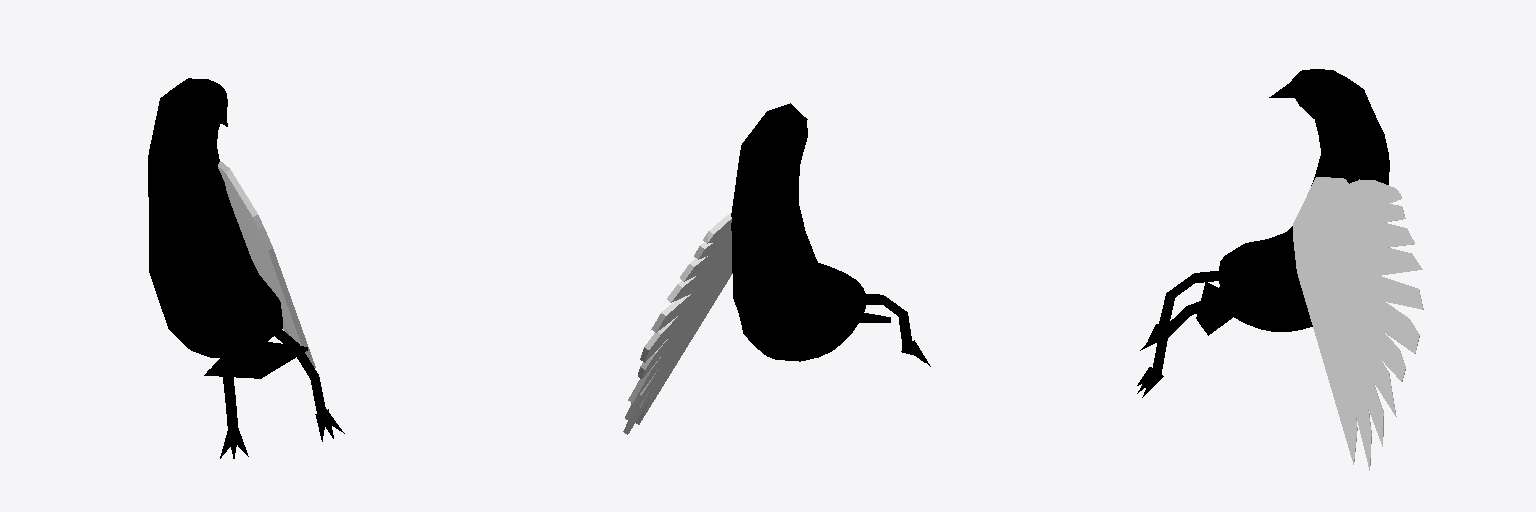
The model's file is model_dumbbell_crowbody.obj.
3 renders of one model, left to right at view 1: azimuth 30°, elevation 25°; view 2: azimuth 150°, elevation 25°; view 3: azimuth 270°, elevation 25°, orthographic.
Visible parts, largest first — view 1: group15 pasted__pSphere2, group15 pasted__pCube4, pasted__pCylinder1 group16, group16 pasted__pasted__pCylinder1 pasted__group16; view 2: group15 pasted__pSphere2, group15 pasted__pCube4, group16 pasted__pasted__pCylinder1 pasted__group16; view 3: group15 pasted__pCube4, group15 pasted__pSphere2, pasted__pCylinder1 group16, group16 pasted__pasted__pCylinder1 pasted__group16.
Boxes of the visible parts, x1=… form: group15 pasted__pSphere2: x1=148, y1=78, x2=307, y2=378; group15 pasted__pCube4: x1=218, y1=161, x2=315, y2=367; pasted__pCylinder1 group16: x1=271, y1=326, x2=325, y2=413; group16 pasted__pasted__pCylinder1 pasted__group16: x1=219, y1=338, x2=237, y2=431; group15 pasted__pSphere2: x1=731, y1=103, x2=890, y2=361; group15 pasted__pCube4: x1=623, y1=213, x2=732, y2=434; group16 pasted__pasted__pCylinder1 pasted__group16: x1=866, y1=294, x2=912, y2=351; group15 pasted__pCube4: x1=1293, y1=177, x2=1423, y2=470; group15 pasted__pSphere2: x1=1196, y1=69, x2=1389, y2=335; pasted__pCylinder1 group16: x1=1153, y1=295, x2=1221, y2=376; group16 pasted__pasted__pCylinder1 pasted__group16: x1=1158, y1=271, x2=1218, y2=330.
Bounding box in the file's own units: 3.43 × 5.56 × 4.27.